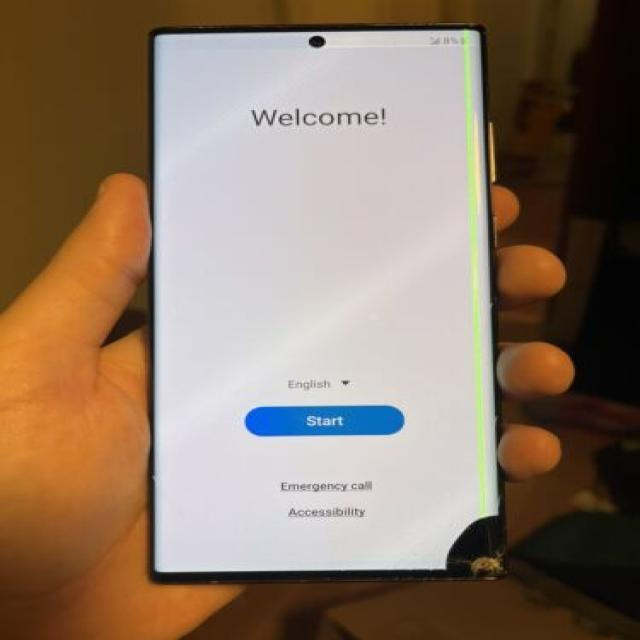dead pixel: (417, 510, 519, 583)
